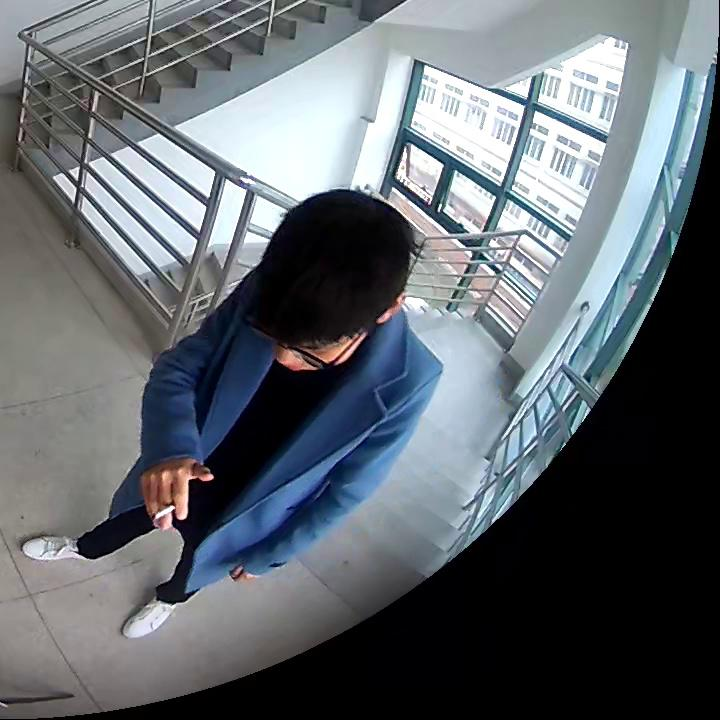handsmoke: (137, 460, 211, 532)
handwithoutsmoke: (230, 566, 266, 586)
mouthwithoutsmoke: (251, 189, 416, 373)
